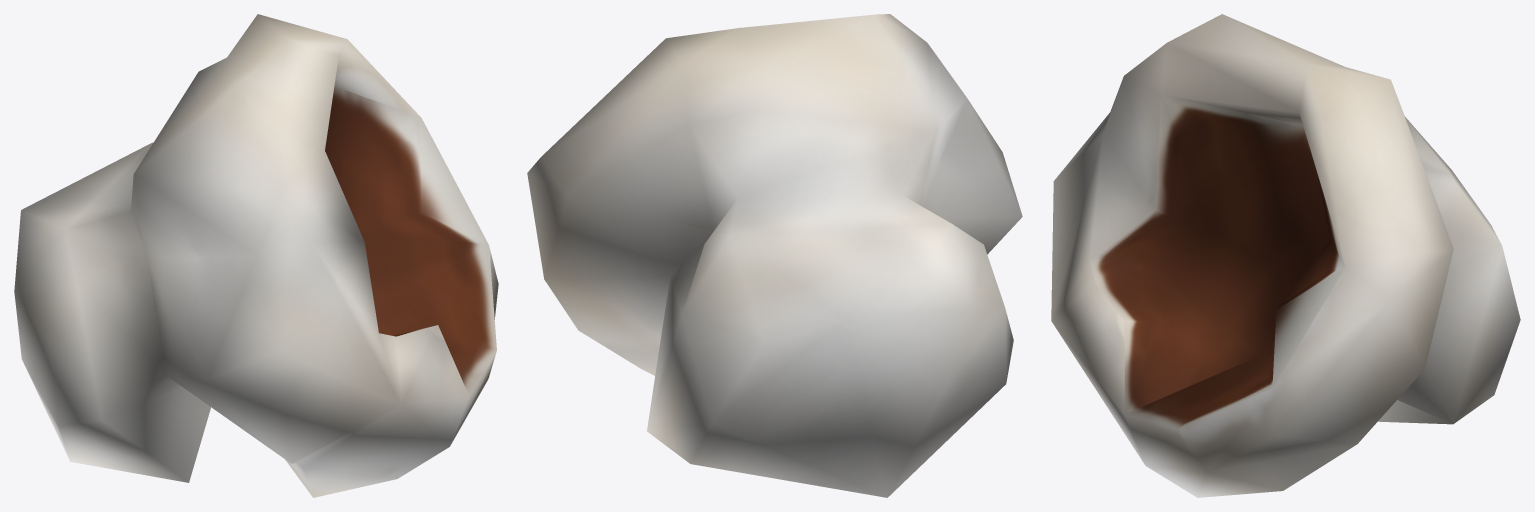
Rendered from Popcorn.FBX.
The picture shows the model from 3 angles, left to right: view 1: azimuth 30°, elevation 25°; view 2: azimuth 150°, elevation 25°; view 3: azimuth 270°, elevation 25°; orthographic projection.
Parts seen in each view (by area): view 1: PopcornSingle; view 2: PopcornSingle; view 3: PopcornSingle.
Part boxes in pixels (x1,y1,x2,y2): PopcornSingle: (14,14,498,497); PopcornSingle: (527,14,1022,497); PopcornSingle: (1051,14,1520,497).
Bounding box in the file's own units: 4.25 × 3.97 × 3.9.
